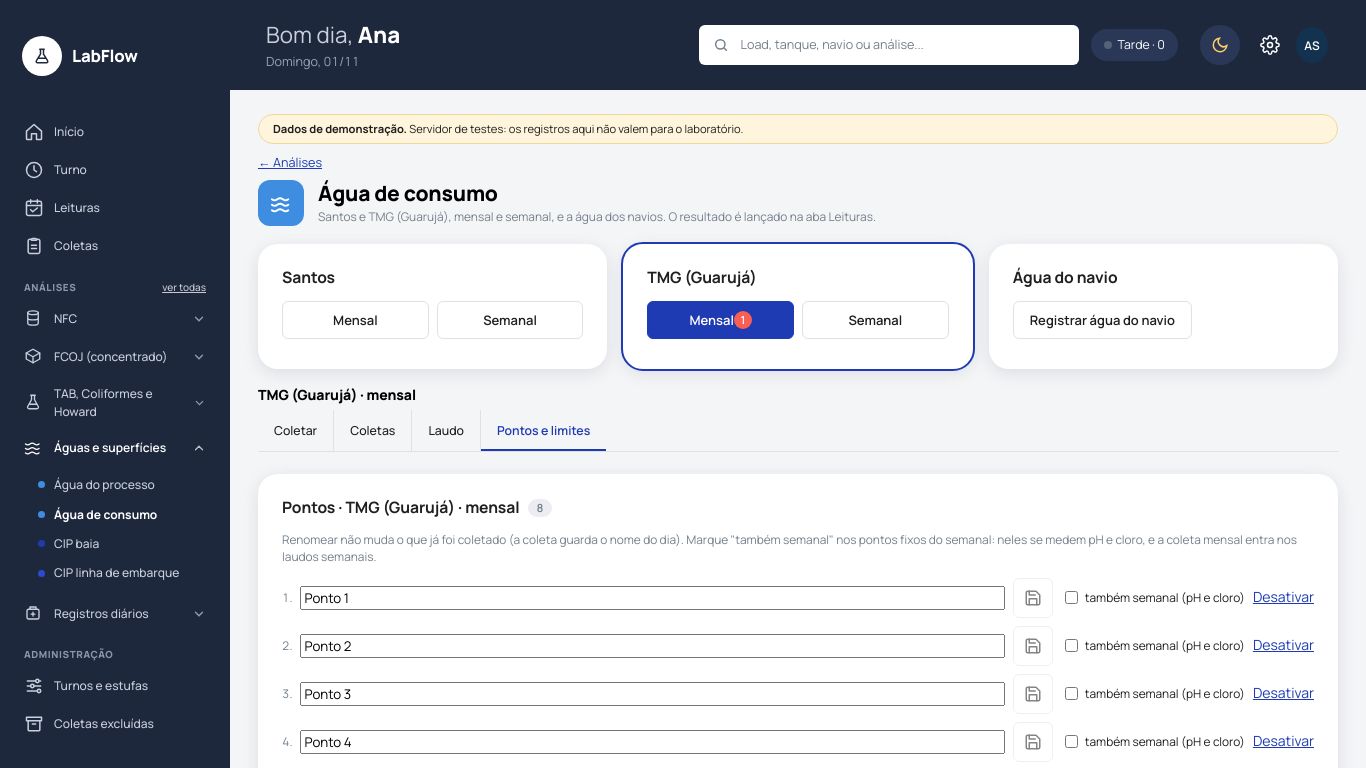
Test: Água de consumo (27/10) › pontos: o disquete salva o nome limpo e some a mudança pendente
The width and height of the screenshot is (1366, 768).
Expected: the button named "Salvar o nome do ponto 1" is disabled, [1013,578,1053,618]
Replace the text in the field named "Nome do ponto 1" with "  Cavalete  " at {"x": 653, "y": 598}, box [300,586,1005,610]
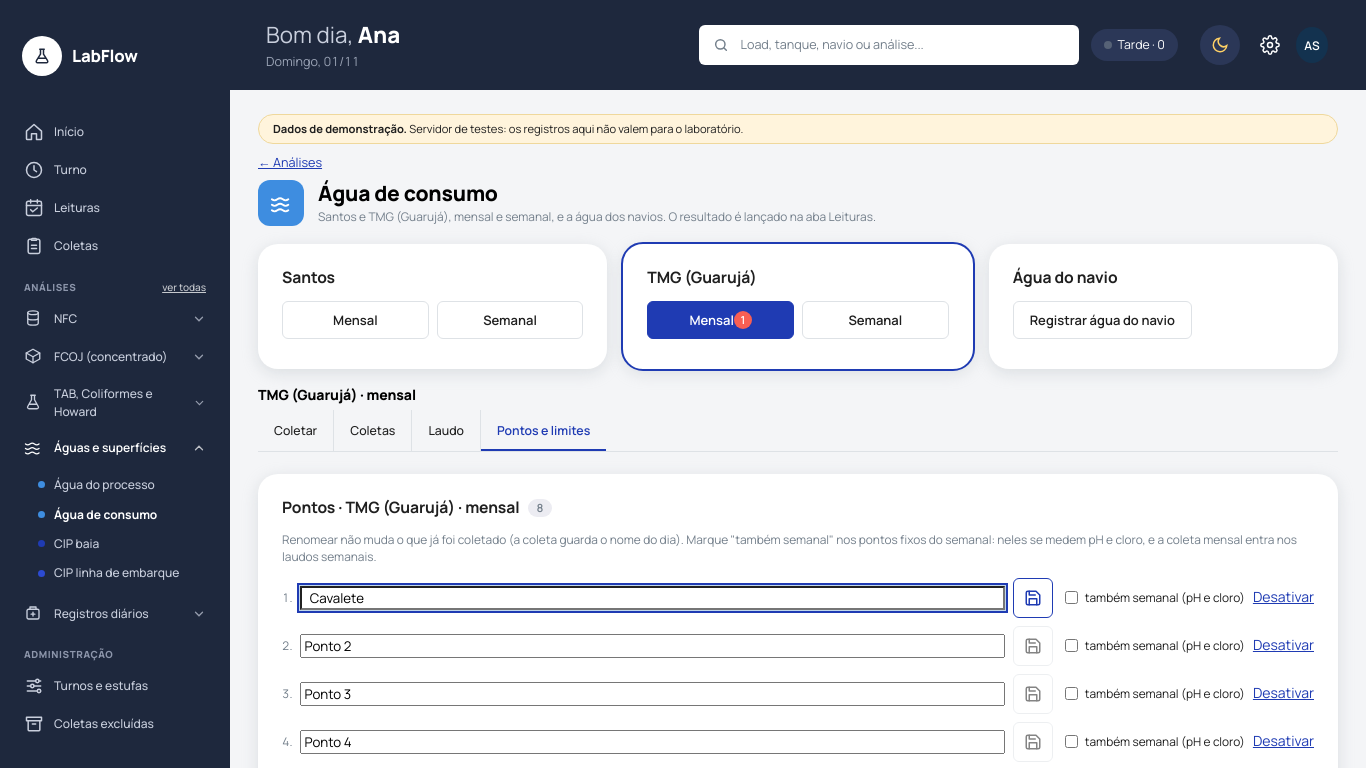
Click the button named "Salvar o nome do ponto 1" at {"x": 1033, "y": 598}, box [1013,578,1053,618]
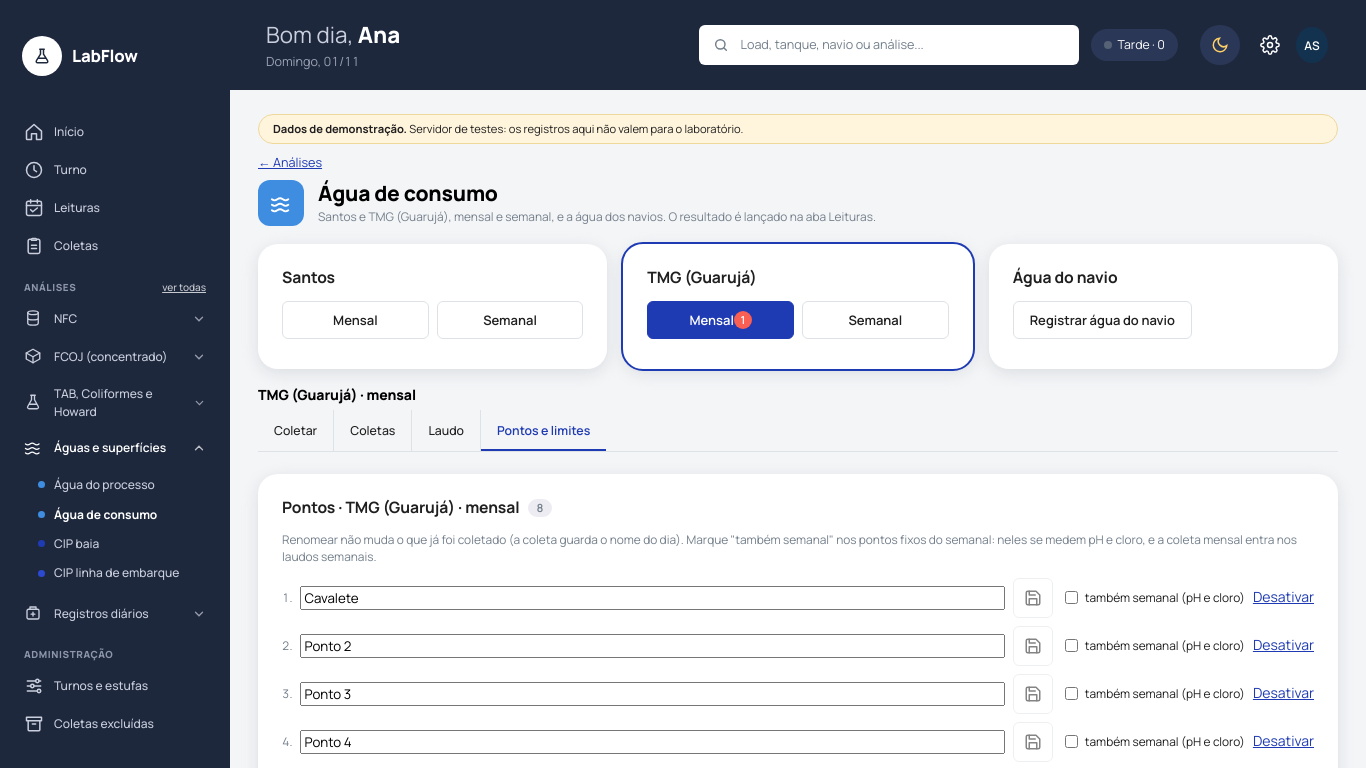
Result: the field named "Nome do ponto 1" holds "Cavalete" at [300,586,1005,610]
Result: the button named "Salvar o nome do ponto 1" is disabled at [1013,578,1053,618]
